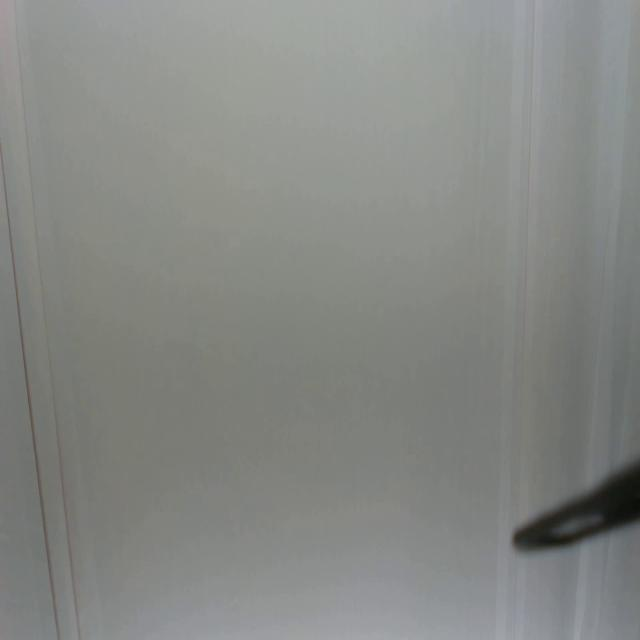crease: (1, 0, 84, 636), (584, 6, 640, 458), (500, 2, 540, 497)
